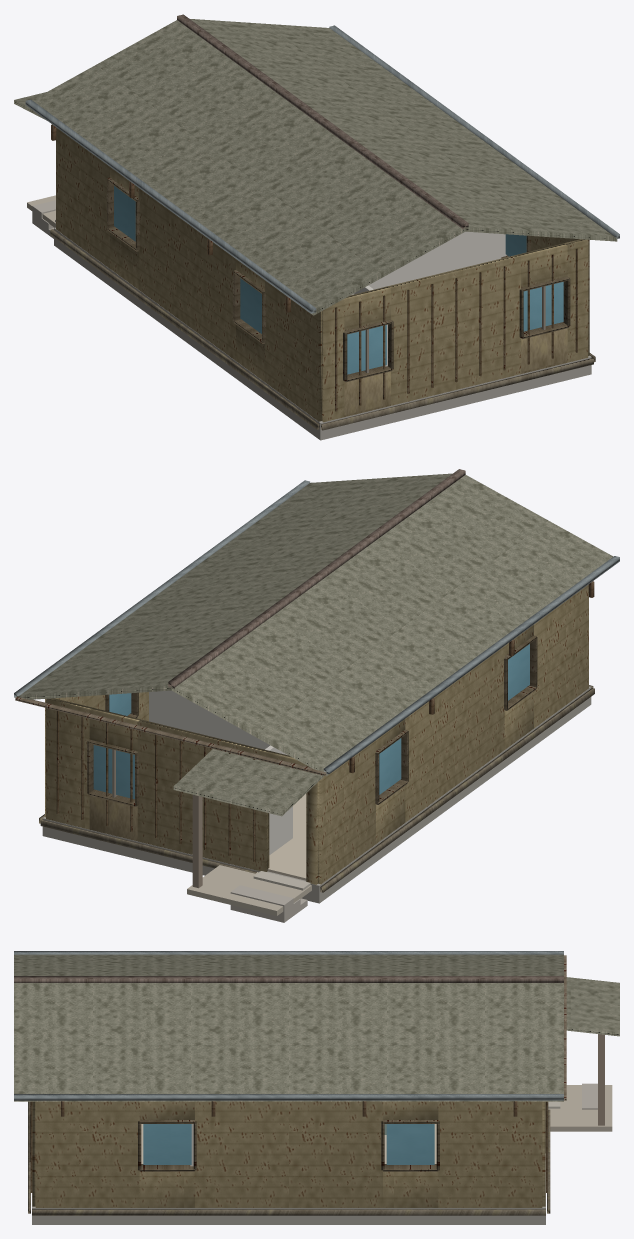
The model's file is HAB_191_Z2_R14_ALBEDO_OTIM_CANDIDATO.gltf.
3 renders of one model, top to bottom at view 1: azimuth 30°, elevation 25°; view 2: azimuth 150°, elevation 25°; view 3: azimuth 270°, elevation 25°, orthographic. The views are drawn at different scales.
Visible parts, largest first — view 1: HAB_191_COBERTURA_AGUA_O, HAB_191_COBERTURA_AGUA_L, HAB_191_FACHADA_FUNDOS_PAREDE_1, HAB_191_LATERAL_O_PAREDE_1, HAB_191_FUNDACAO, HAB_191_LATERAL_O_PAREDE_FINAL, HAB_191_LATERAL_O_PAREDE_0, HAB_191_REV26_ARREMATE_EMBASAMENTO, HAB_191_DIVISA_AMBIENTE_1_PAREDE_FINAL, HAB_191_COBERTURA_CUMEEIRA, HAB_191_COBERTURA_CALHA_O, HAB_191_FACHADA_FUNDOS_PAREDE_0 (+13 smaller); view 2: HAB_191_COBERTURA_AGUA_O, HAB_191_COBERTURA_AGUA_L, HAB_191_FACHADA_FRONTAL_PAREDE_1, HAB_191_LATERAL_O_PAREDE_1, HAB_191_LATERAL_O_PAREDE_0, HAB_191_VARANDA_COBERTURA, HAB_191_LATERAL_O_PAREDE_FINAL, HAB_191_FUNDACAO, HAB_191_FACHADA_FRONTAL_PAREDE_FINAL, HAB_191_REV26_ARREMATE_EMBASAMENTO, HAB_191_COBERTURA_CUMEEIRA, HAB_191_COBERTURA_CALHA_O (+16 smaller); view 3: HAB_191_COBERTURA_AGUA_L, HAB_191_LATERAL_L_PAREDE_1, HAB_191_COBERTURA_AGUA_O, HAB_191_LATERAL_L_PAREDE_0, HAB_191_LATERAL_L_PAREDE_FINAL, HAB_191_FUNDACAO, HAB_191_REV26_ARREMATE_EMBASAMENTO, HAB_191_COBERTURA_CUMEEIRA, HAB_191_COBERTURA_CALHA_L, HAB_191_VARANDA_COBERTURA, HAB_191_COBERTURA_CALHA_O, HAB_191_LATERAL_L_PEITORIL_0 (+12 smaller).
Part boxes in pixels (box(x1,y1,x2,y2)): HAB_191_COBERTURA_AGUA_O: box(32, 20, 465, 315); HAB_191_COBERTURA_AGUA_L: box(190, 19, 617, 241); HAB_191_FACHADA_FUNDOS_PAREDE_1: box(388, 254, 520, 405); HAB_191_LATERAL_O_PAREDE_1: box(138, 188, 235, 360); HAB_191_FUNDACAO: box(54, 227, 591, 440); HAB_191_LATERAL_O_PAREDE_FINAL: box(265, 280, 321, 421); HAB_191_LATERAL_O_PAREDE_0: box(56, 127, 109, 268); HAB_191_REV26_ARREMATE_EMBASAMENTO: box(50, 229, 595, 430); HAB_191_DIVISA_AMBIENTE_1_PAREDE_FINAL: box(351, 231, 506, 294); HAB_191_COBERTURA_CUMEEIRA: box(177, 14, 468, 229); HAB_191_COBERTURA_CALHA_O: box(25, 99, 316, 313); HAB_191_FACHADA_FUNDOS_PAREDE_0: box(322, 299, 344, 422); HAB_191_COBERTURA_AGUA_O: box(171, 475, 613, 776); HAB_191_COBERTURA_AGUA_L: box(16, 473, 452, 699); HAB_191_FACHADA_FRONTAL_PAREDE_1: box(137, 719, 269, 871); HAB_191_LATERAL_O_PAREDE_1: box(405, 646, 504, 822); HAB_191_LATERAL_O_PAREDE_0: box(318, 740, 375, 884); HAB_191_VARANDA_COBERTURA: box(173, 749, 323, 816); HAB_191_LATERAL_O_PAREDE_FINAL: box(534, 584, 588, 728); HAB_191_FUNDACAO: box(42, 686, 591, 903); HAB_191_FACHADA_FRONTAL_PAREDE_FINAL: box(46, 698, 92, 829); HAB_191_REV26_ARREMATE_EMBASAMENTO: box(39, 685, 594, 892); HAB_191_COBERTURA_CUMEEIRA: box(168, 469, 465, 688); HAB_191_COBERTURA_CALHA_O: box(323, 556, 619, 774); HAB_191_COBERTURA_AGUA_L: box(14, 983, 563, 1101); HAB_191_LATERAL_L_PAREDE_1: box(195, 1101, 382, 1207); HAB_191_COBERTURA_AGUA_O: box(14, 954, 563, 975); HAB_191_LATERAL_L_PAREDE_0: box(438, 1101, 542, 1207); HAB_191_LATERAL_L_PAREDE_FINAL: box(35, 1101, 139, 1207); HAB_191_FUNDACAO: box(32, 1153, 545, 1224); HAB_191_REV26_ARREMATE_EMBASAMENTO: box(28, 1101, 550, 1215); HAB_191_COBERTURA_CUMEEIRA: box(14, 976, 563, 982); HAB_191_COBERTURA_CALHA_L: box(14, 1094, 563, 1100); HAB_191_VARANDA_COBERTURA: box(566, 977, 619, 1036); HAB_191_COBERTURA_CALHA_O: box(14, 951, 563, 954); HAB_191_LATERAL_L_PEITORIL_0: box(383, 1171, 438, 1207).
Bounding box in the file's own units: 7.63 × 4.49 × 13.44.
11 materials, 11 textured.
